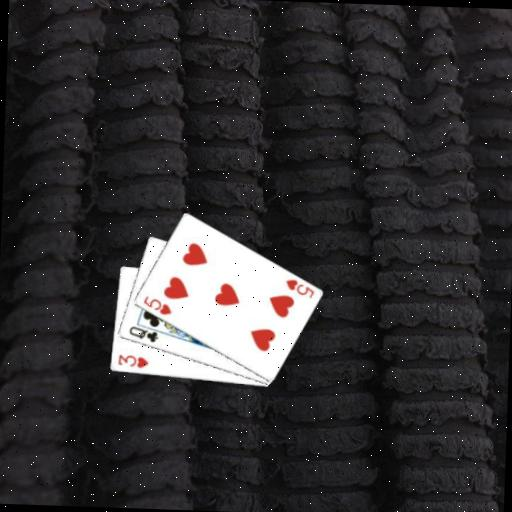3H: (114, 351, 150, 369)
5H: (139, 292, 173, 317), (281, 276, 315, 300)
QC: (125, 323, 159, 344)
